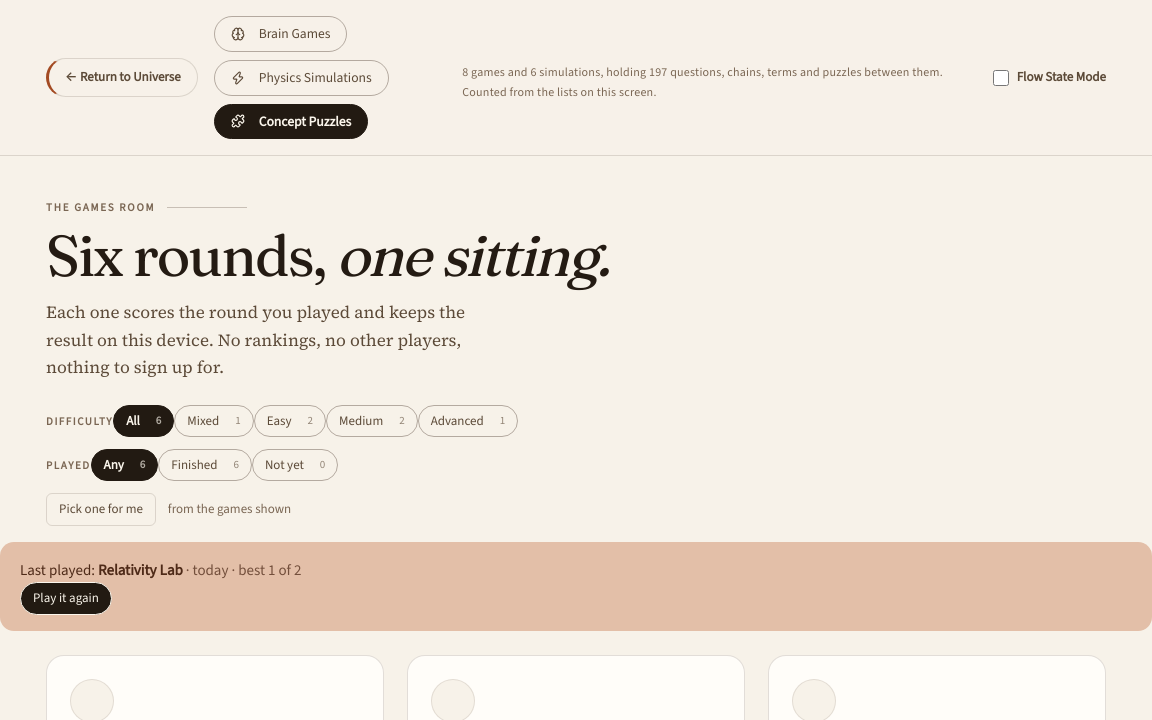
Test: what each game has actually produced › with every game played, the picker still opens one of them
The image size is (1152, 720).
expect the text with test id "games-pick-note" shows "games shown": met, box 168,500 -> 291,517
What coordinates should you click on to do the following:
click the button with test id "games-pick"
I would click on:
 (101, 509)
Its box is 46,493 -> 156,526.
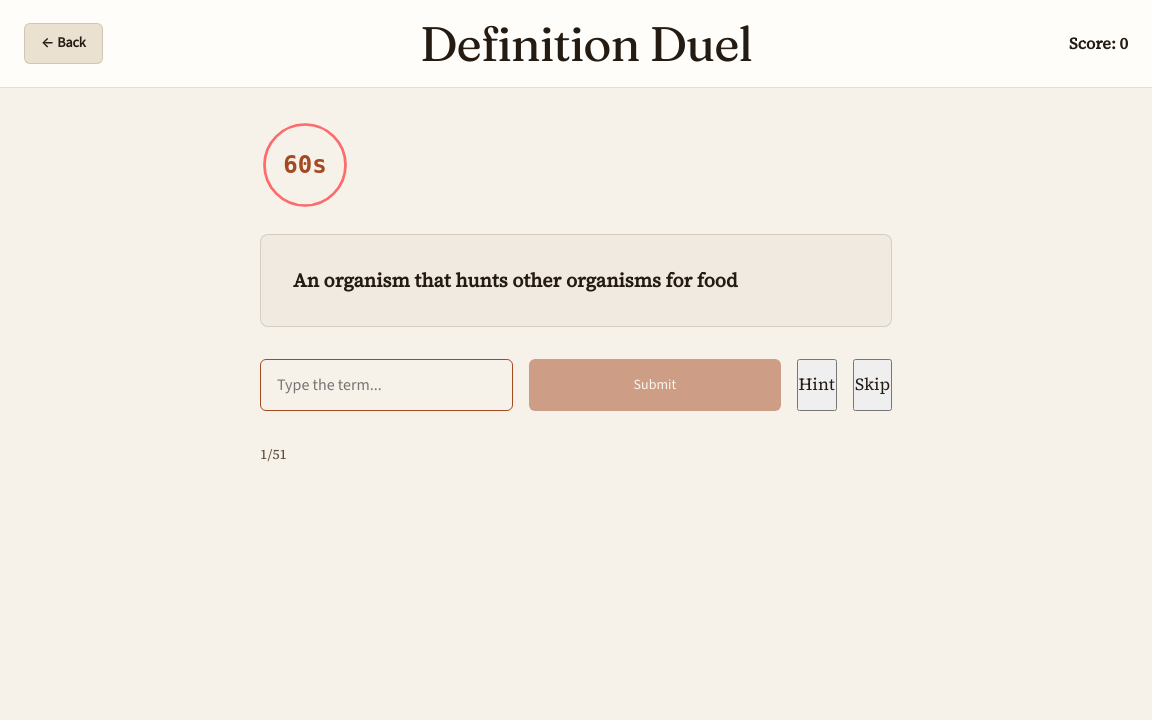
expect the button with test id "games-pick" is gone: met
